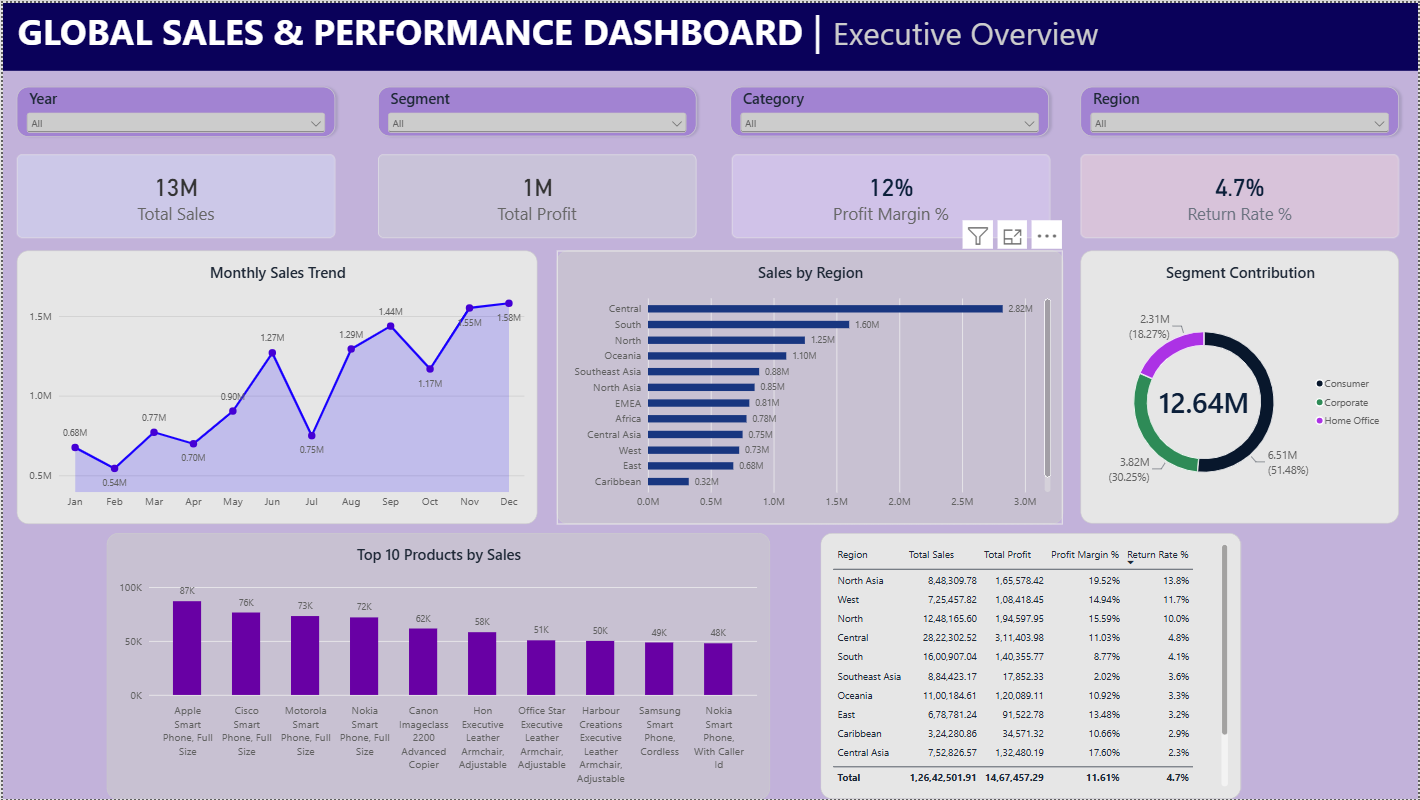

This screenshot's page, from the dashboard's own definition file:
{"tool":"powerbi","page":{"name":" Executive Overview","canvas":[1920,1080],"ordinal":0},"visuals":[{"type":"advanceCardE03760C5AB684758B56AA29F9E6C257B","fields":{"mainMeasure":["Measures (2).Total Sales"]},"box":[18.5,205.8,432.2,113.2],"z":0},{"type":"advanceCardE03760C5AB684758B56AA29F9E6C257B","fields":{"mainMeasure":["Measures (2).Total Profit"]},"box":[508.4,205.8,432.2,113.2],"z":1000},{"type":"advanceCardE03760C5AB684758B56AA29F9E6C257B","fields":{"mainMeasure":["Measures (2).Return Rate %"]},"box":[1461.4,205.8,432.2,113.2],"z":2000},{"type":"advanceCardE03760C5AB684758B56AA29F9E6C257B","fields":{"mainMeasure":["Measures (2).Profit Margin %"]},"box":[988,205.8,432.2,113.2],"z":3000},{"type":"textbox","box":[0,0,1920,92.4],"z":4000},{"type":"slicer","fields":{"Values":["DateTable.Year"]},"box":[18.5,113.2,432.2,67.9],"z":5000},{"type":"slicer","fields":{"Values":["Orders.Region"]},"box":[1462.2,113.9,432,67],"z":6000},{"type":"slicer","fields":{"Values":["Orders.Segment"]},"box":[509.3,113.4,432,67],"z":7000},{"type":"slicer","fields":{"Values":["Orders.Category"]},"box":[987.2,113.4,432,67],"z":8000},{"type":"lineChart","title":"Monthly Sales Trend","fields":{"Category":["DateTable.Month Name"],"Y":["Measures (2).Total Sales"]},"box":[18.5,335.5,706.4,371.5],"z":9000},{"type":"clusteredBarChart","title":"Sales by Region","fields":{"Category":["Orders.Region"],"Y":["Measures (2).Total Sales"]},"box":[751.3,335.5,687.2,371.5],"z":10000},{"type":"donutChart","title":"Segment Contribution","fields":{"Category":["Orders.Segment"],"Y":["Measures (2).Total Sales"]},"box":[1461.4,335.5,432.2,370.5],"z":11000},{"type":"clusteredColumnChart","title":"Top 10 Products by Sales","fields":{"Category":["Orders.Product Name"],"Y":["Measures (2).Total Sales"]},"box":[140.7,718.6,899.7,361.5],"z":12000},{"type":"tableEx","fields":{"Values":["Orders.Region","Measures (2).Total Sales","Measures (2).Total Profit","Measures (2).Profit Margin %","Measures (2).Return Rate %"]},"box":[1108.8,718.6,570.4,361],"z":13000}]}

Visuals, with their boxes in screenshot pixels (x1, y1, x2, y2), scaled from the page's 1920x1080 canvas onto the 1420x800 screenshot:
advanceCardE03760C5AB684758B56AA29F9E6C257B - Measures (2).Total Sales: {"x1": 14, "y1": 152, "x2": 333, "y2": 236}
advanceCardE03760C5AB684758B56AA29F9E6C257B - Measures (2).Total Profit: {"x1": 376, "y1": 152, "x2": 696, "y2": 236}
advanceCardE03760C5AB684758B56AA29F9E6C257B - Measures (2).Return Rate %: {"x1": 1081, "y1": 152, "x2": 1400, "y2": 236}
advanceCardE03760C5AB684758B56AA29F9E6C257B - Measures (2).Profit Margin %: {"x1": 731, "y1": 152, "x2": 1050, "y2": 236}
textbox: {"x1": 0, "y1": 0, "x2": 1419, "y2": 68}
slicer - DateTable.Year: {"x1": 14, "y1": 84, "x2": 333, "y2": 134}
slicer - Orders.Region: {"x1": 1081, "y1": 84, "x2": 1401, "y2": 134}
slicer - Orders.Segment: {"x1": 377, "y1": 84, "x2": 696, "y2": 134}
slicer - Orders.Category: {"x1": 730, "y1": 84, "x2": 1050, "y2": 134}
"Monthly Sales Trend" lineChart: {"x1": 14, "y1": 249, "x2": 536, "y2": 524}
"Sales by Region" clusteredBarChart: {"x1": 556, "y1": 249, "x2": 1064, "y2": 524}
"Segment Contribution" donutChart: {"x1": 1081, "y1": 249, "x2": 1400, "y2": 523}
"Top 10 Products by Sales" clusteredColumnChart: {"x1": 104, "y1": 532, "x2": 769, "y2": 799}
tableEx - Orders.Region x Measures (2).Total Sales: {"x1": 820, "y1": 532, "x2": 1242, "y2": 799}
